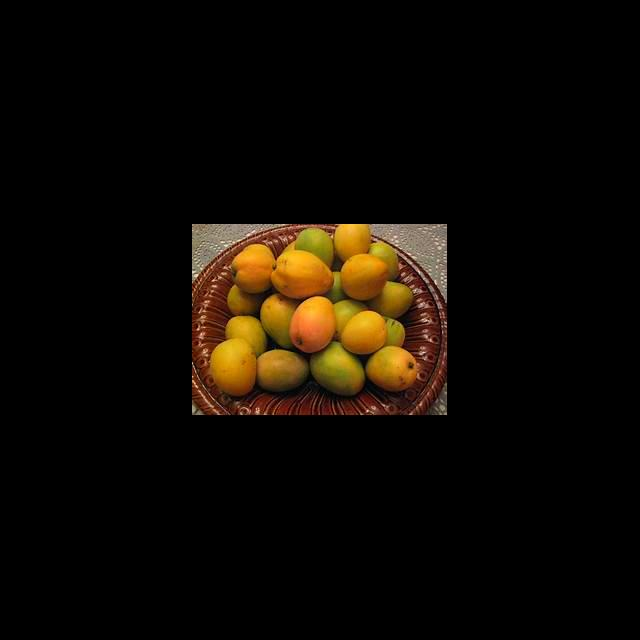mango: (311, 342, 366, 396), (273, 250, 333, 298), (211, 339, 257, 397), (290, 297, 336, 353), (366, 346, 417, 392), (341, 254, 389, 301), (257, 350, 310, 392), (261, 294, 301, 349), (232, 244, 276, 294), (341, 311, 387, 355), (367, 281, 414, 319), (225, 316, 267, 357), (296, 228, 334, 268), (334, 224, 371, 262), (334, 300, 368, 335), (369, 242, 399, 281)
